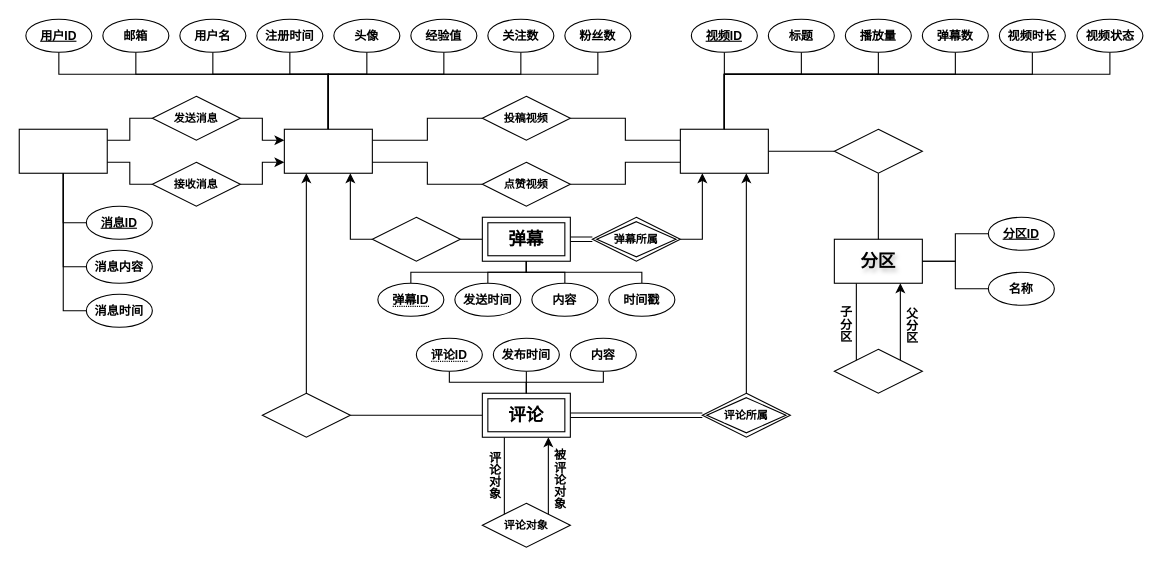
This 1163x567 diagram has some shape labels left out. The shapes that lost their labels are listed below. From the top down, each one's box as (x1, y1, x2, y2) in pixels, then its label:
(18, 128, 107, 173): 消息
(283, 128, 372, 173): 用户
(679, 128, 768, 173): 视频
(833, 128, 922, 173): 视频分区
(371, 216, 460, 261): 发送弹幕
(833, 348, 922, 393): 分区所属
(261, 392, 350, 437): 发送评论
